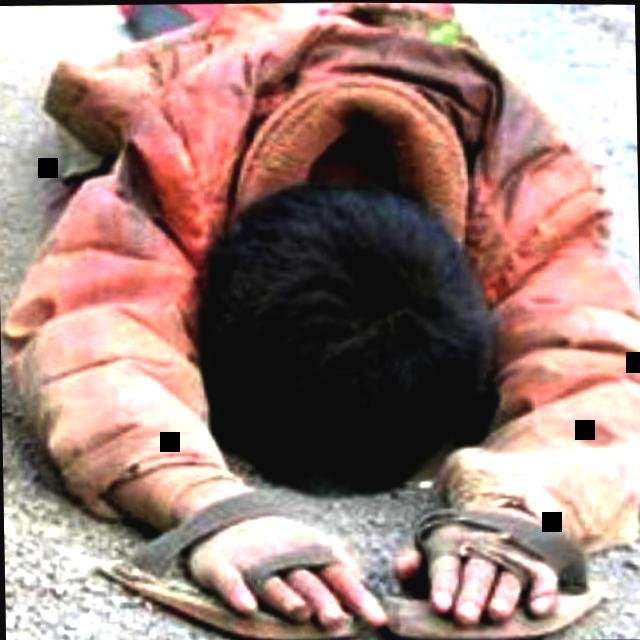Fall-Detected: (9, 2, 640, 638)
